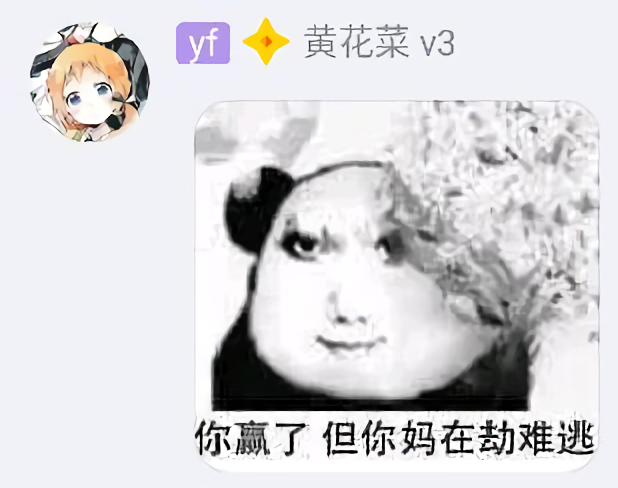dragon: (280, 208, 433, 375)
